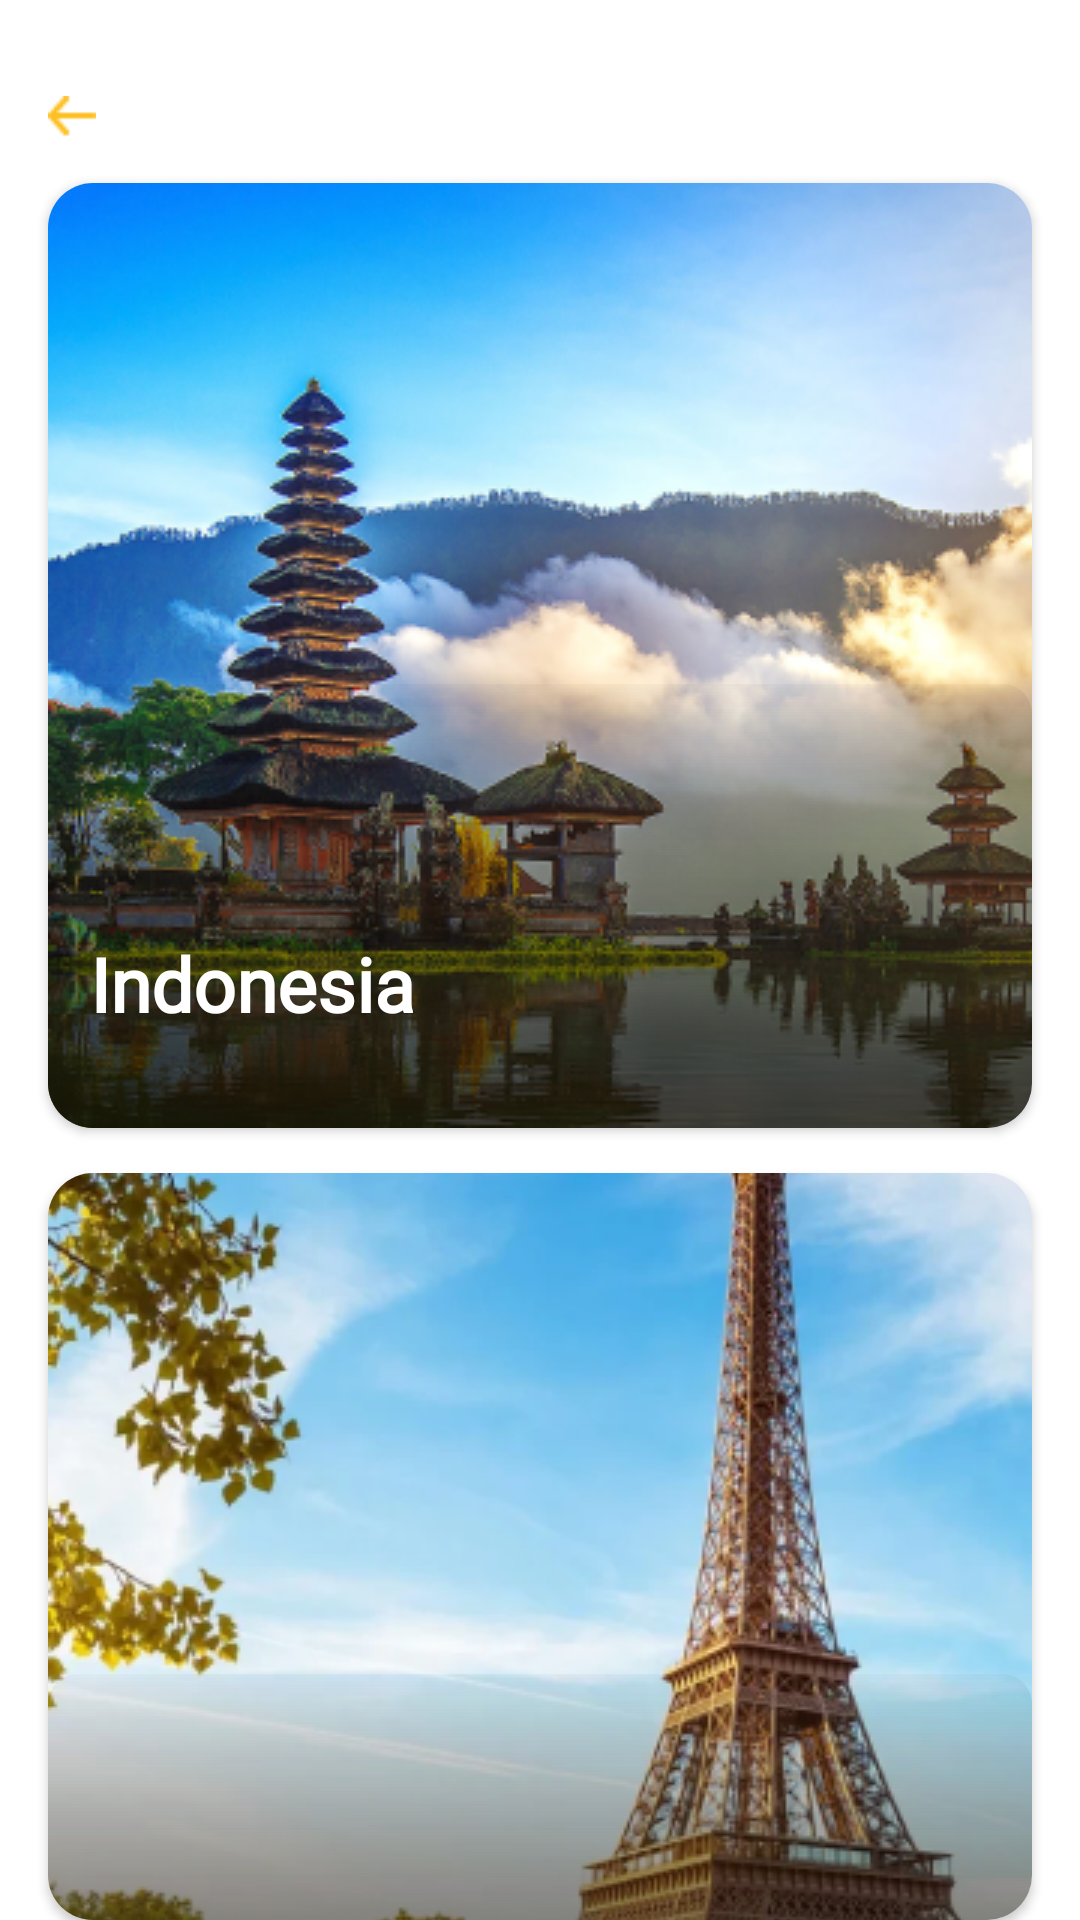

Screen size 1080 × 1920. Icon name, then its center in pixels as [x,y]:
backyellow: [72,116]
